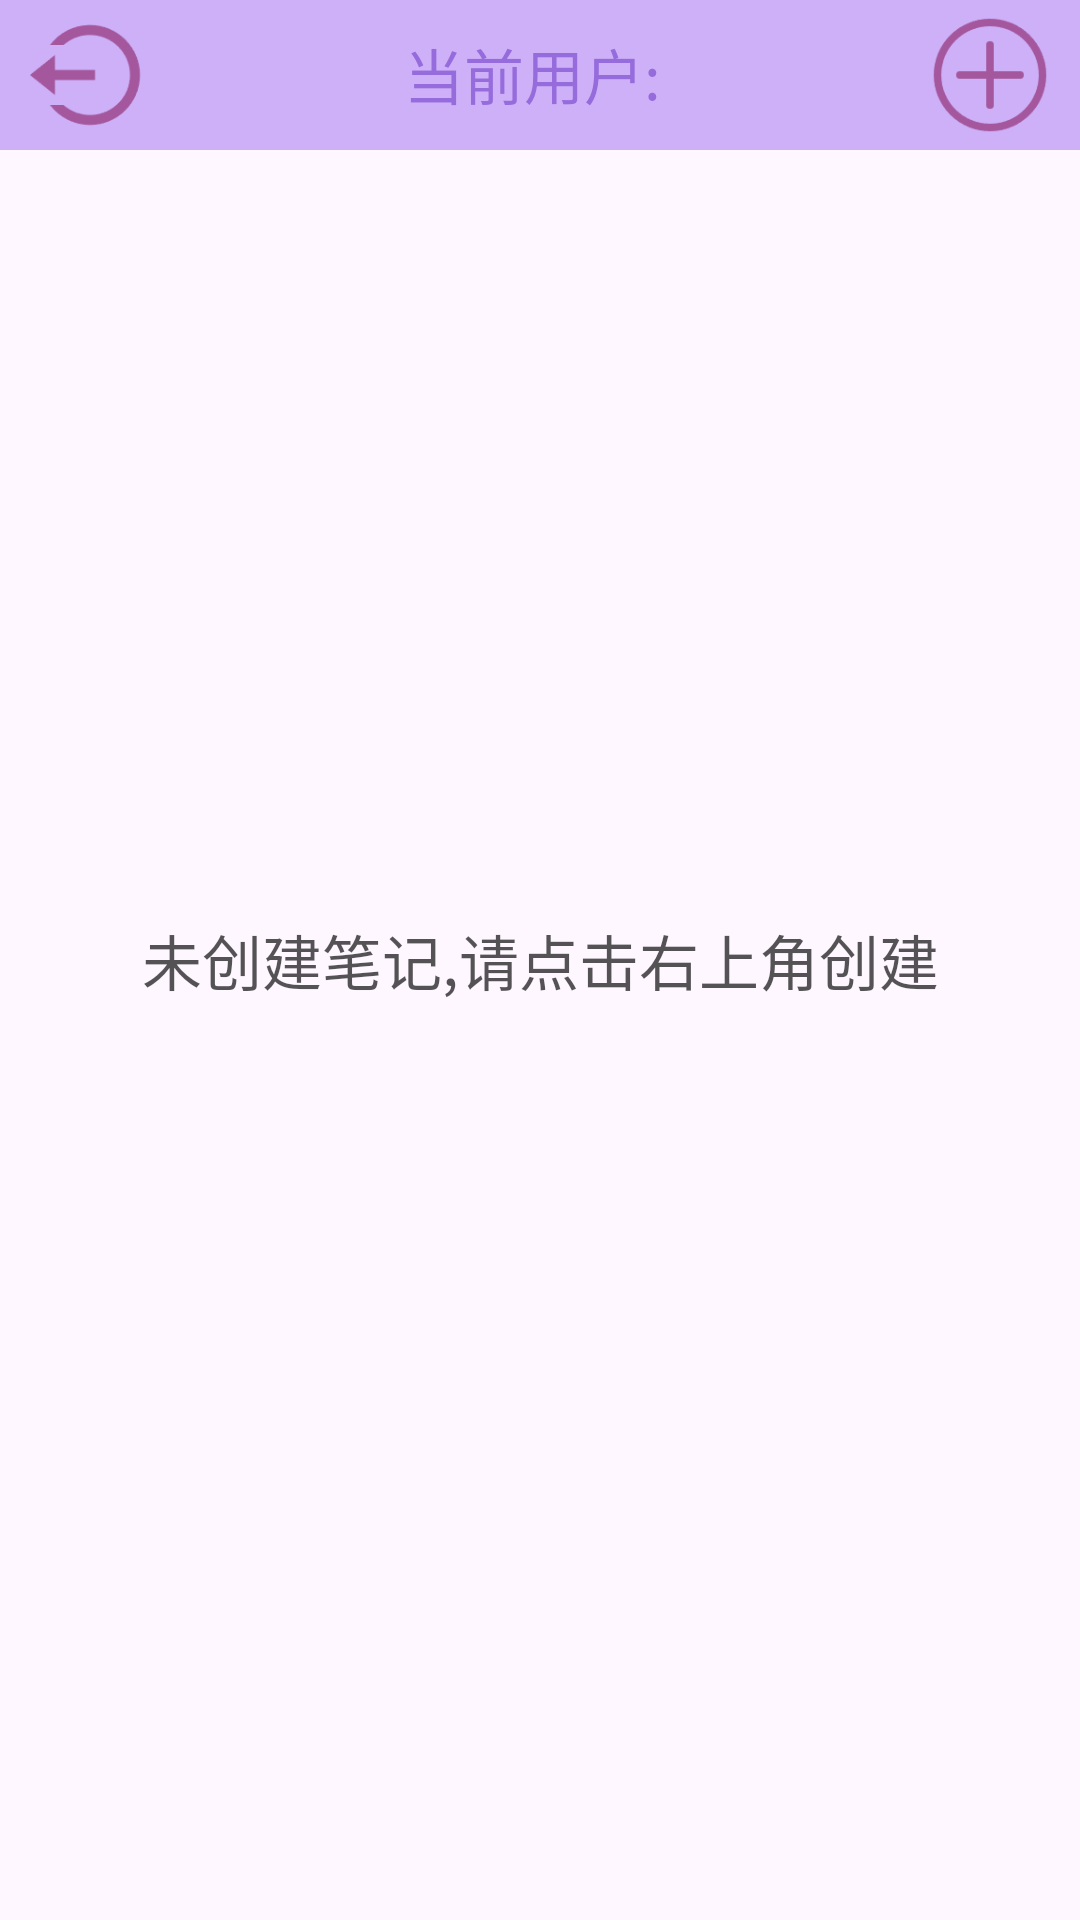

Screen size 1080x1920. Icon name, then its box in pixels as (x1, y1, x2, y2):
add: (934, 19, 1046, 131)
